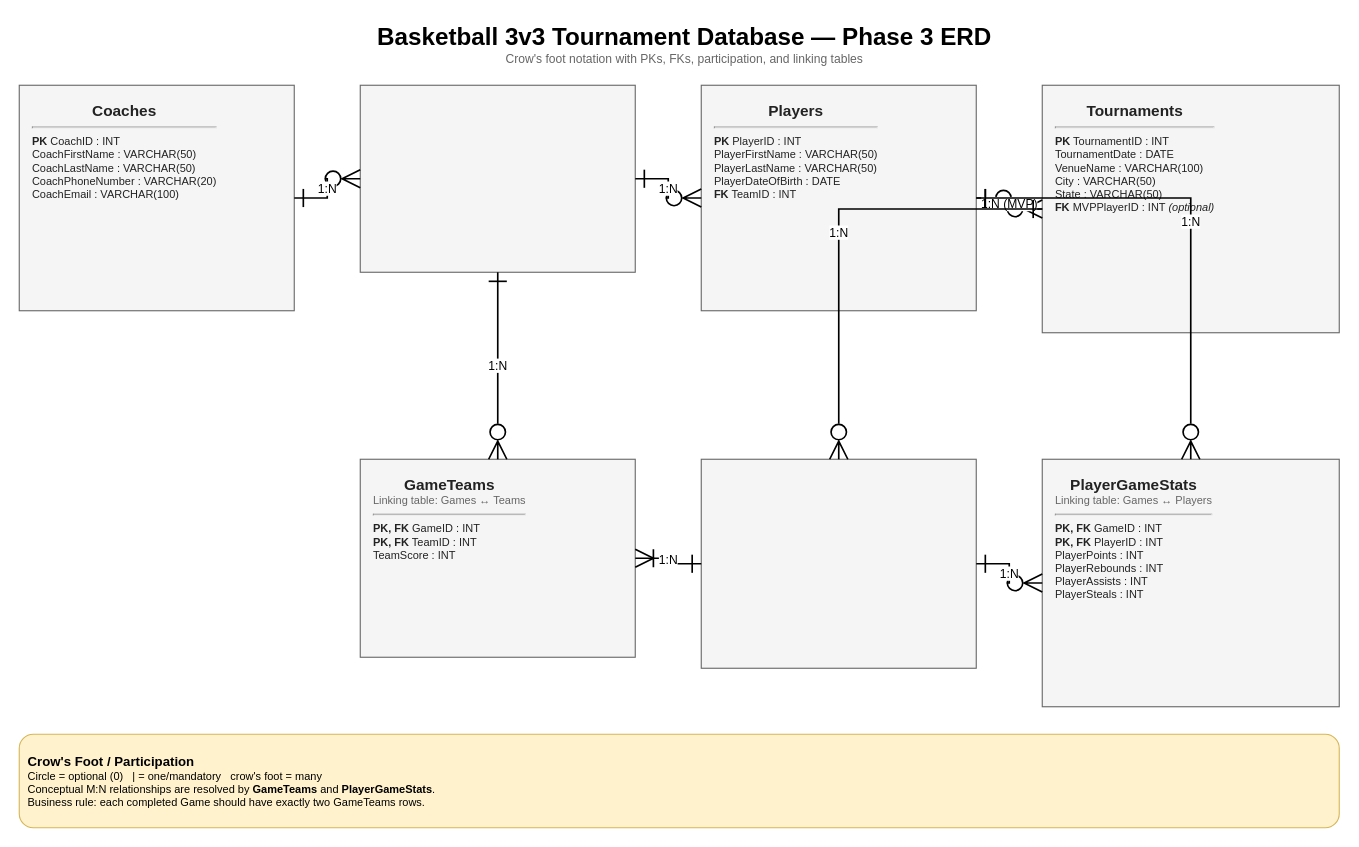
The diagram is 1359 pixels wide and 847 high, and some of its shapes have lost their labels. The centre of each missing label's shape, as x and y in pixels:
Games PK GameID : INT FK TournamentID : INT GameDate : DATE GameTime : TIME: point 838,563
Teams PK TeamID : INT TeamName : VARCHAR(100) FK CoachID : INT: point 497,178
